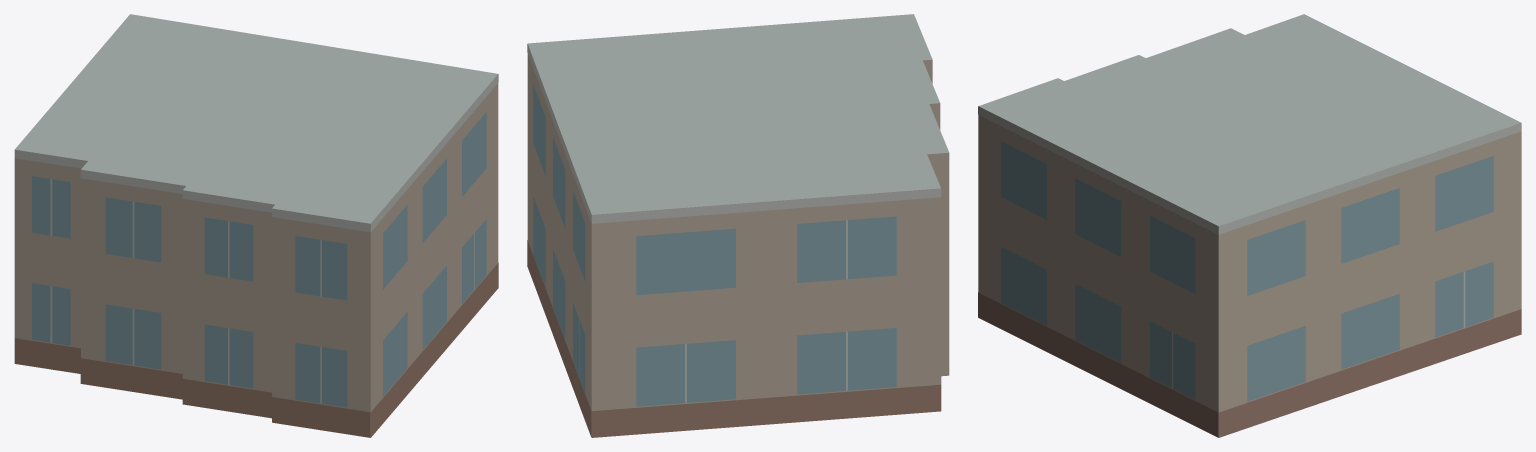
File: survey-upis-32811435.glb
3 renders of one model, left to right at view 1: azimuth 30°, elevation 25°; view 2: azimuth 150°, elevation 25°; view 3: azimuth 270°, elevation 25°, orthographic. The views are drawn at different scales.
Parts seen in each view (by area): view 1: survey-upis-32811435.tmp; view 2: survey-upis-32811435.tmp; view 3: survey-upis-32811435.tmp.
Boxes of the visible parts, bbox=[...] form: survey-upis-32811435.tmp: bbox=[14, 14, 498, 437]; survey-upis-32811435.tmp: bbox=[527, 14, 949, 437]; survey-upis-32811435.tmp: bbox=[978, 14, 1521, 437].
Bounding box in the file's own units: 13.14 × 6.1 × 14.21.
